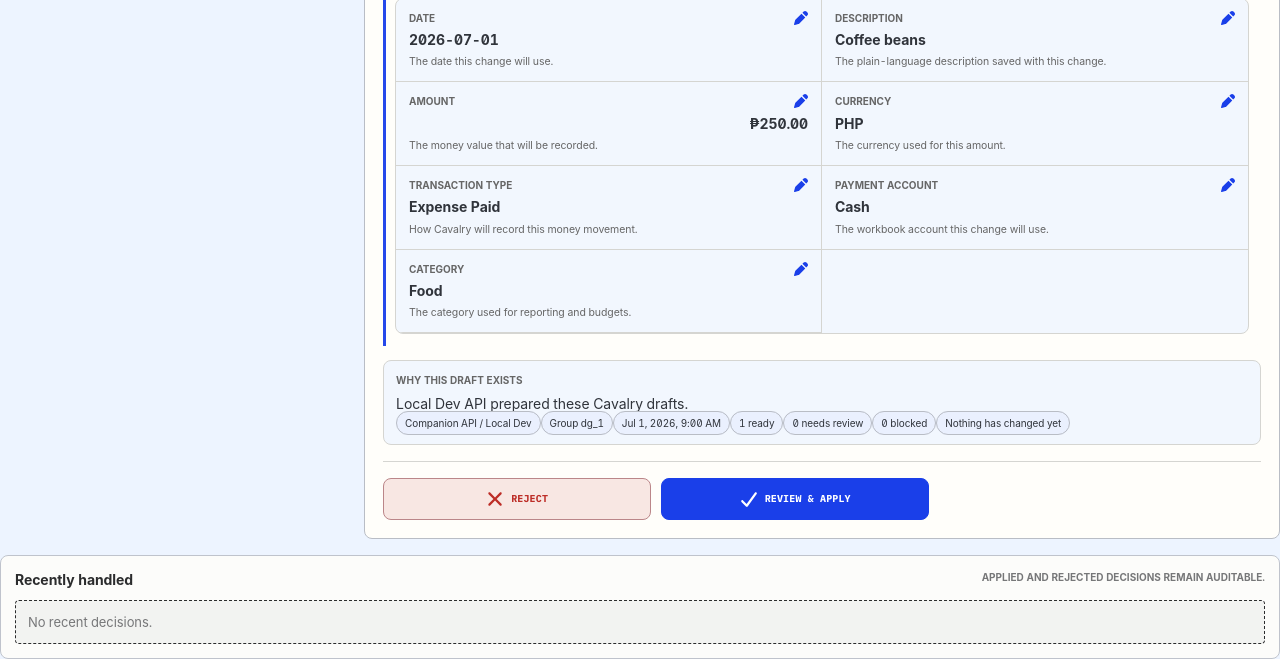
draft and checkpoint interactions › rejects a draft through a cancellable confirmation
(page scrolled)
Click the button "Reject" at (517, 499), box left=383, top=478, right=651, bottom=520
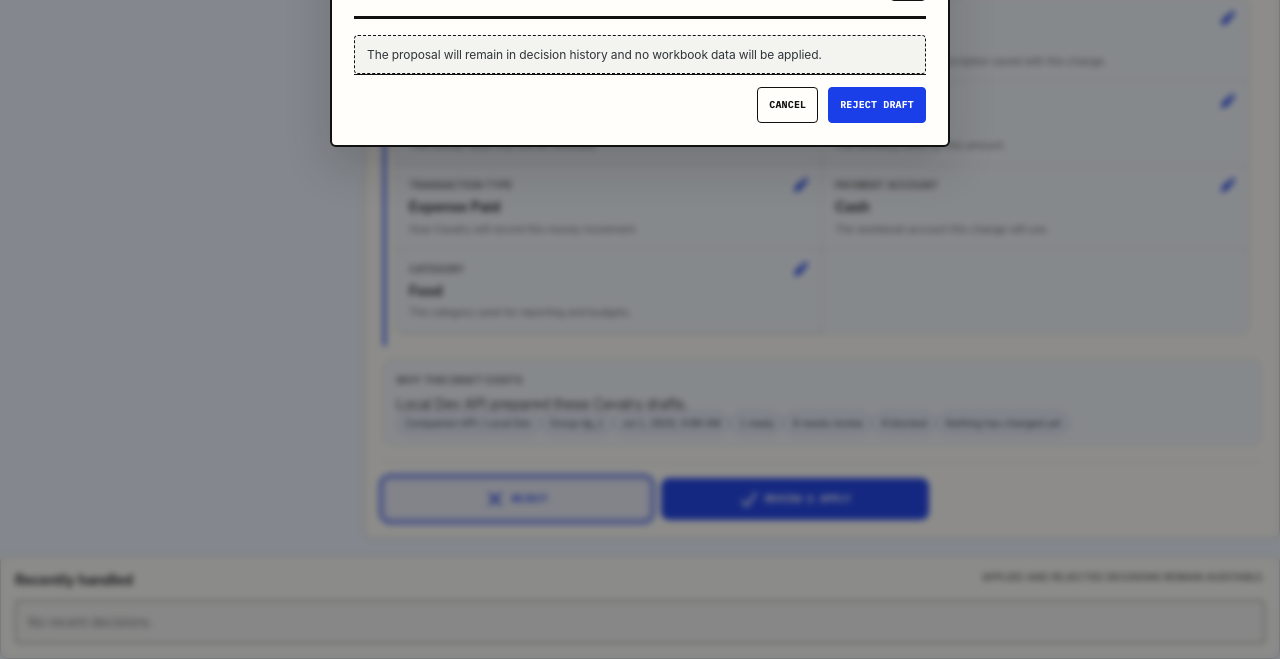
Click the button "Cancel" at (788, 105), box left=757, top=87, right=818, bottom=123
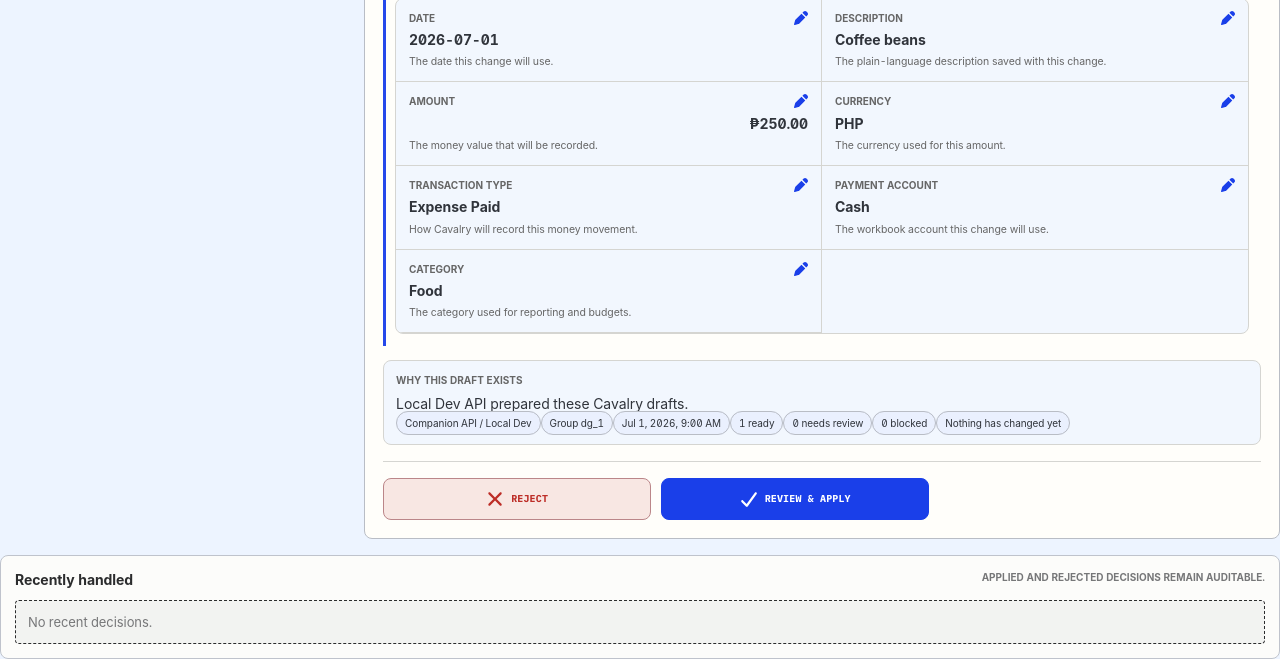
Click the button "Reject" at (517, 499), box left=383, top=478, right=651, bottom=520
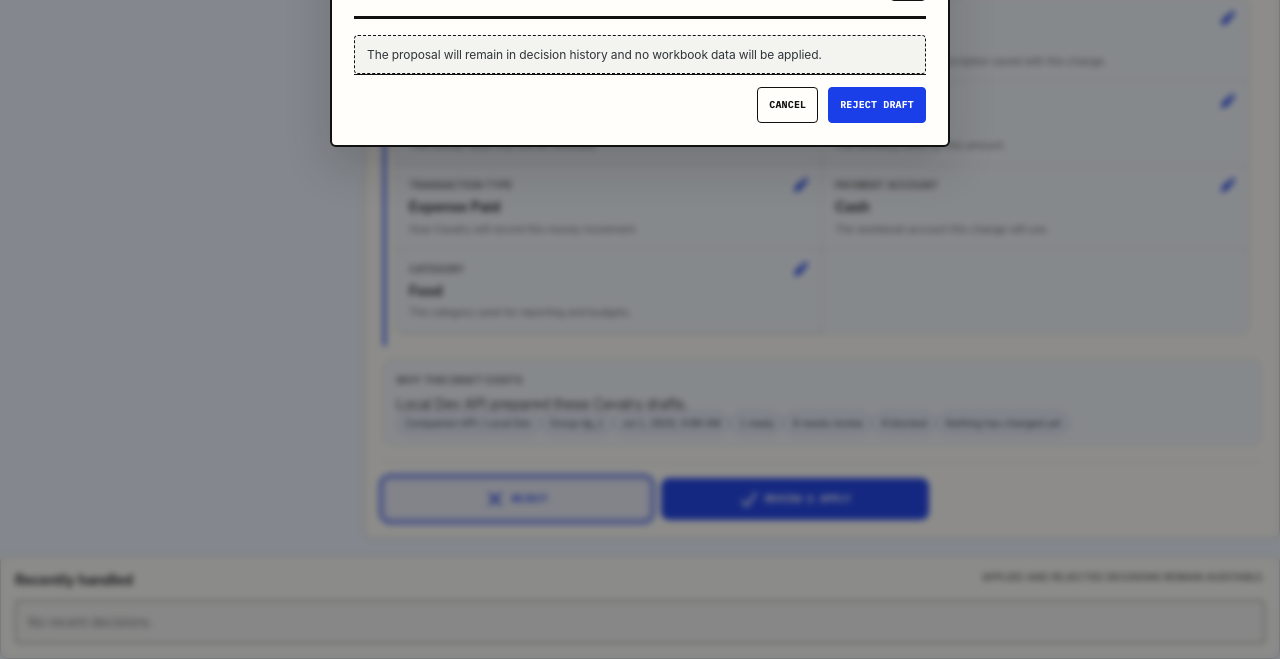
Click the button "Reject Draft" at (877, 105), box left=828, top=87, right=926, bottom=123
(page scrolled)
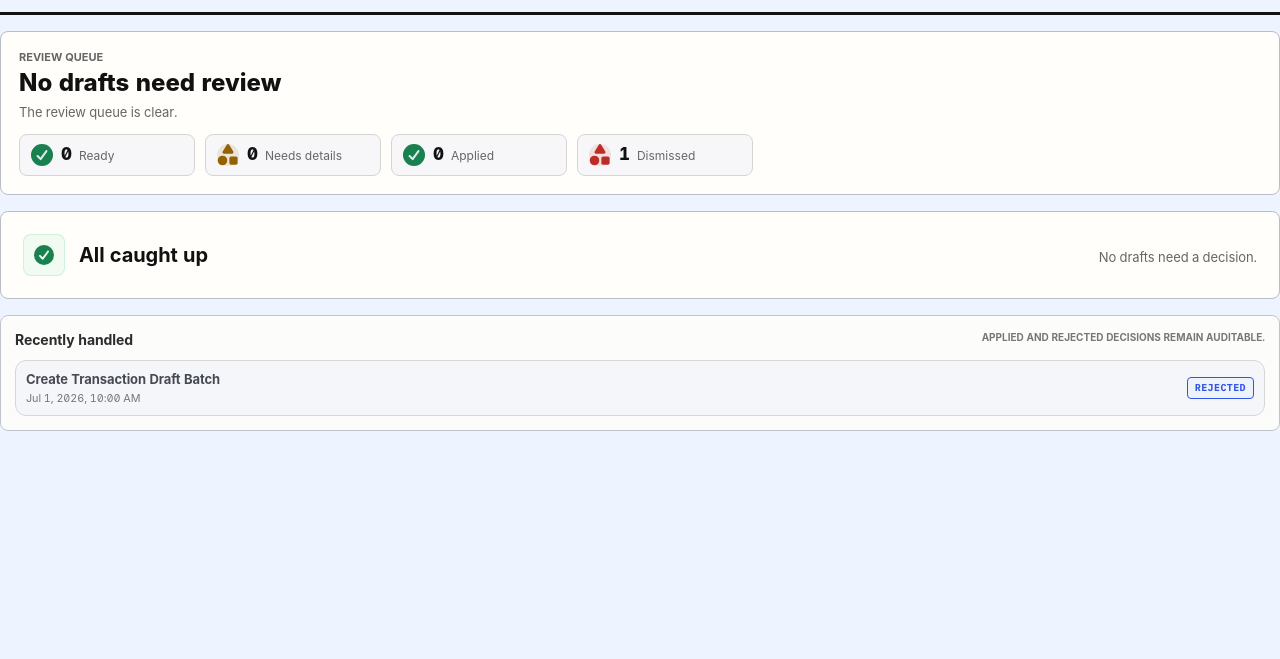
Expected: the heading "All caught up" is shown, left=79, top=243, right=208, bottom=267
